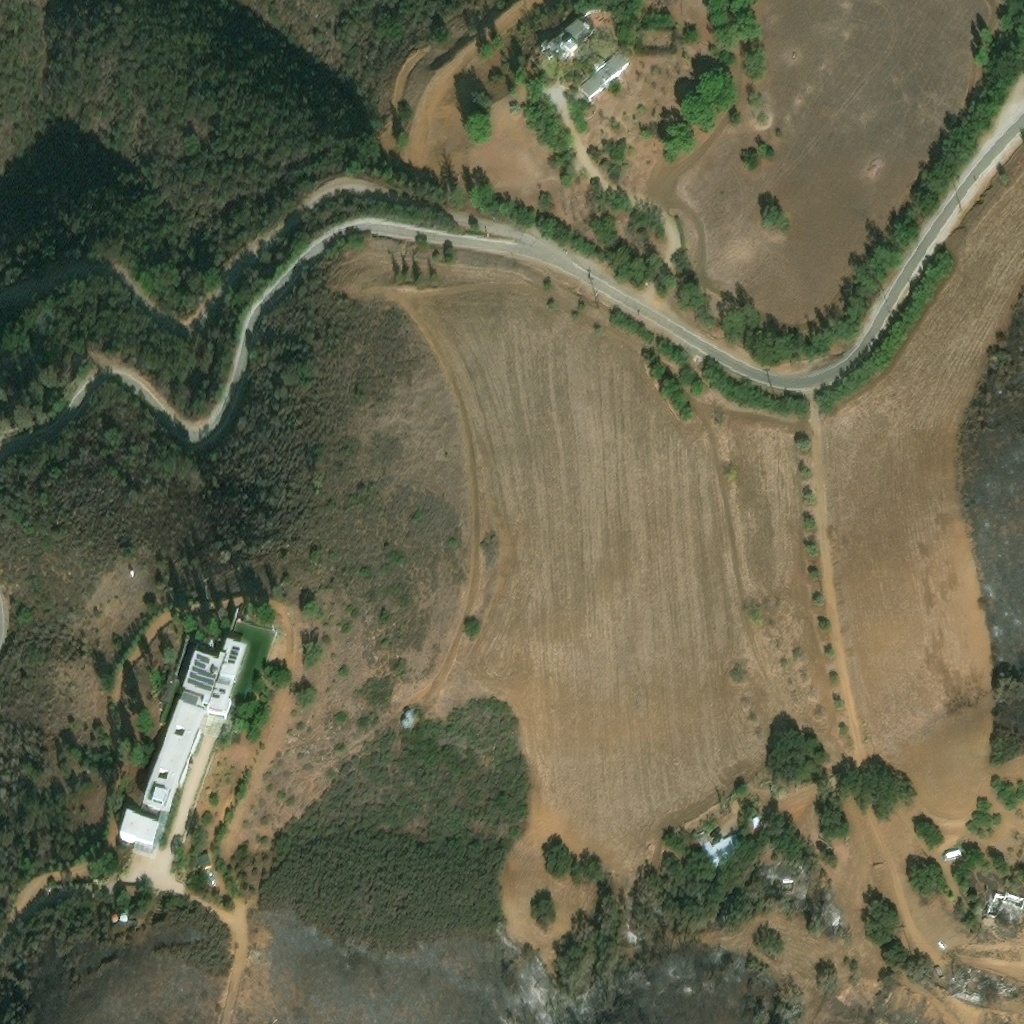0 no-damage: (139, 641, 248, 818), (578, 52, 630, 100), (538, 18, 593, 62), (689, 835, 745, 874), (118, 811, 160, 852), (118, 886, 143, 903), (203, 872, 216, 890), (197, 857, 210, 872), (751, 818, 760, 832), (119, 917, 127, 927), (109, 918, 117, 926)
3 destroyed: (961, 961, 1016, 998), (981, 891, 1023, 925), (950, 975, 984, 1005), (778, 880, 806, 899), (936, 939, 948, 950)
